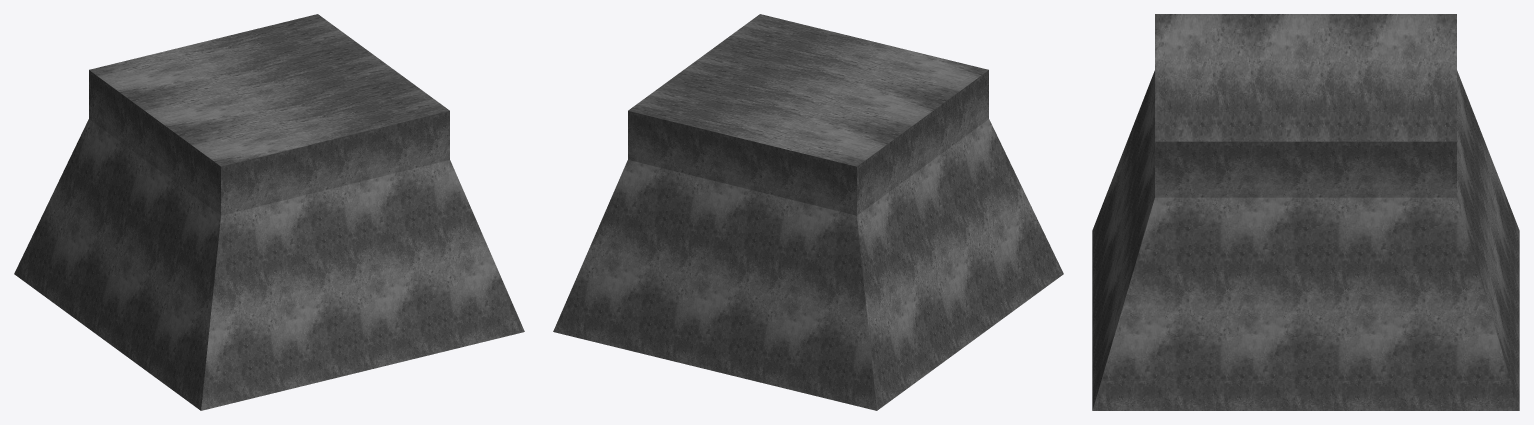
File: Colon_niz.glb
The picture shows the model from 3 angles, left to right: view 1: azimuth 30°, elevation 25°; view 2: azimuth 150°, elevation 25°; view 3: azimuth 270°, elevation 25°; orthographic projection. The views are drawn at different scales.
Parts seen in each view (by area): view 1: Cube; view 2: Cube; view 3: Cube.
Boxes of the visible parts, box(x1,y1,x2,y2) form: Cube: box(14, 14, 524, 410); Cube: box(553, 14, 1063, 410); Cube: box(1092, 14, 1519, 410).
Bounding box in the file's own units: 3.7 × 2.32 × 3.7.
1 material, 1 textured.
